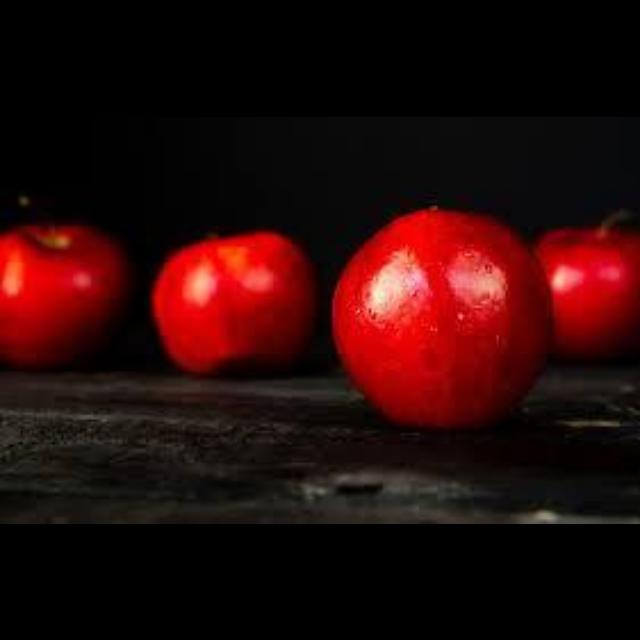apple: (333, 207, 549, 423), (153, 230, 317, 373), (0, 223, 130, 367), (535, 214, 638, 357)
